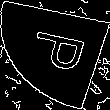P_E: (19, 30, 91, 80)
